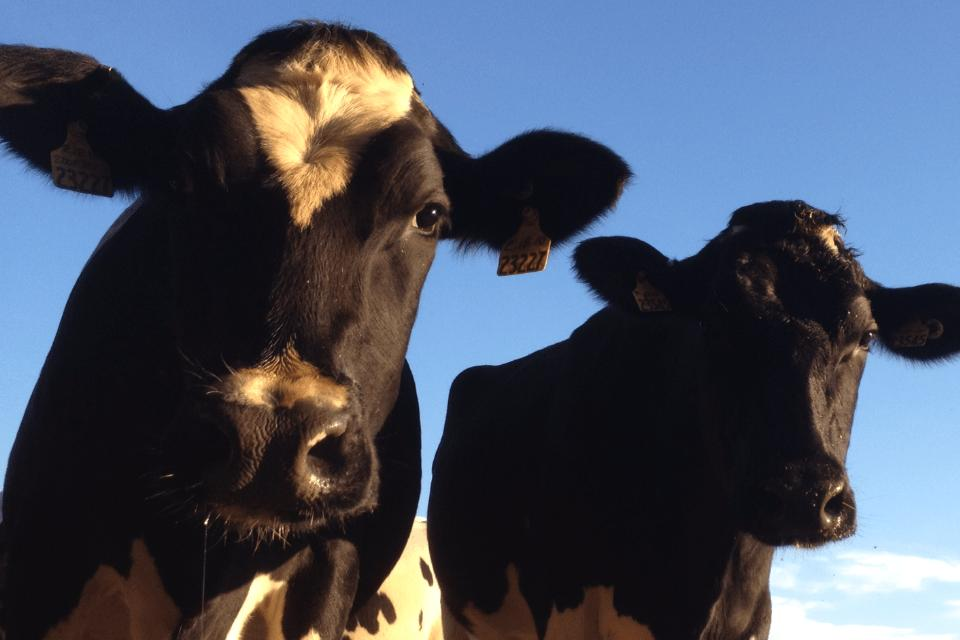muzzles: (152, 365, 387, 550), (733, 455, 863, 551)
